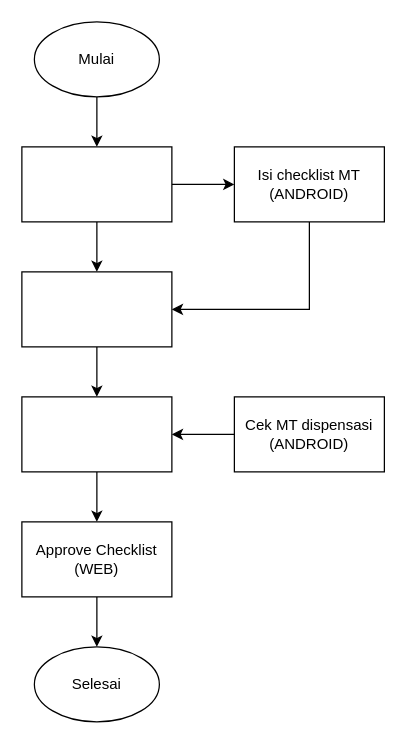
The diagram is 406 pixels wide and 744 high, and some of its shapes have lost their labels. Each missing label, with the centre of its shape:
"Cek progres checklist MT (WEB)" goes at (x=96, y=309).
"Input jadwal checklist MT (WEB)" goes at (x=96, y=184).
"Lihat dan print isi checklist (WEB)" goes at (x=96, y=434).
